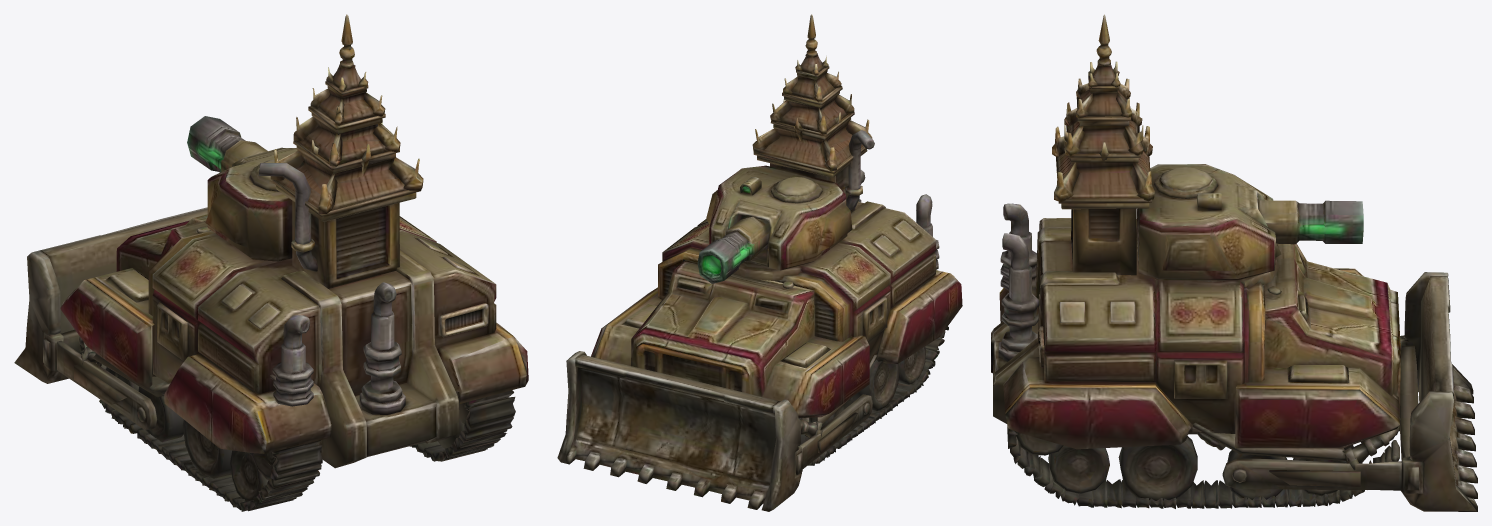
The model's file is slag_dozer.glb.
3 renders of one model, left to right at view 1: azimuth 30°, elevation 25°; view 2: azimuth 150°, elevation 25°; view 3: azimuth 270°, elevation 25°, orthographic. The views are drawn at different scales.
Visible parts, largest first — view 1: Body; view 2: Body, Trim; view 3: Body.
Part boxes in pixels (<box>): Body: <box>14,14,528,511</box>; Body: <box>557,14,962,511</box>; Trim: <box>658,37,843,374</box>; Body: <box>991,14,1477,511</box>.
Bounding box in the file's own units: 4.21 × 6.5 × 6.5.
2 materials, 2 textured.
